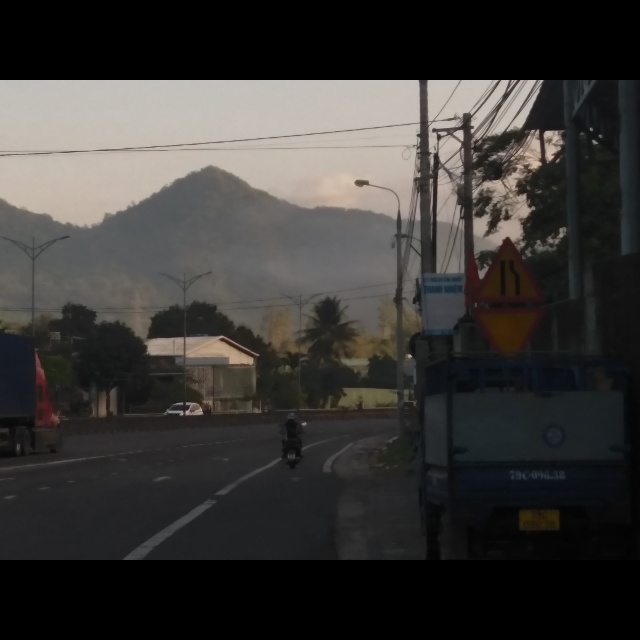Giao nhau với đường ưu tiên: (468, 304, 547, 350)
Đường bị hẹp bên phải: (470, 235, 547, 303)
